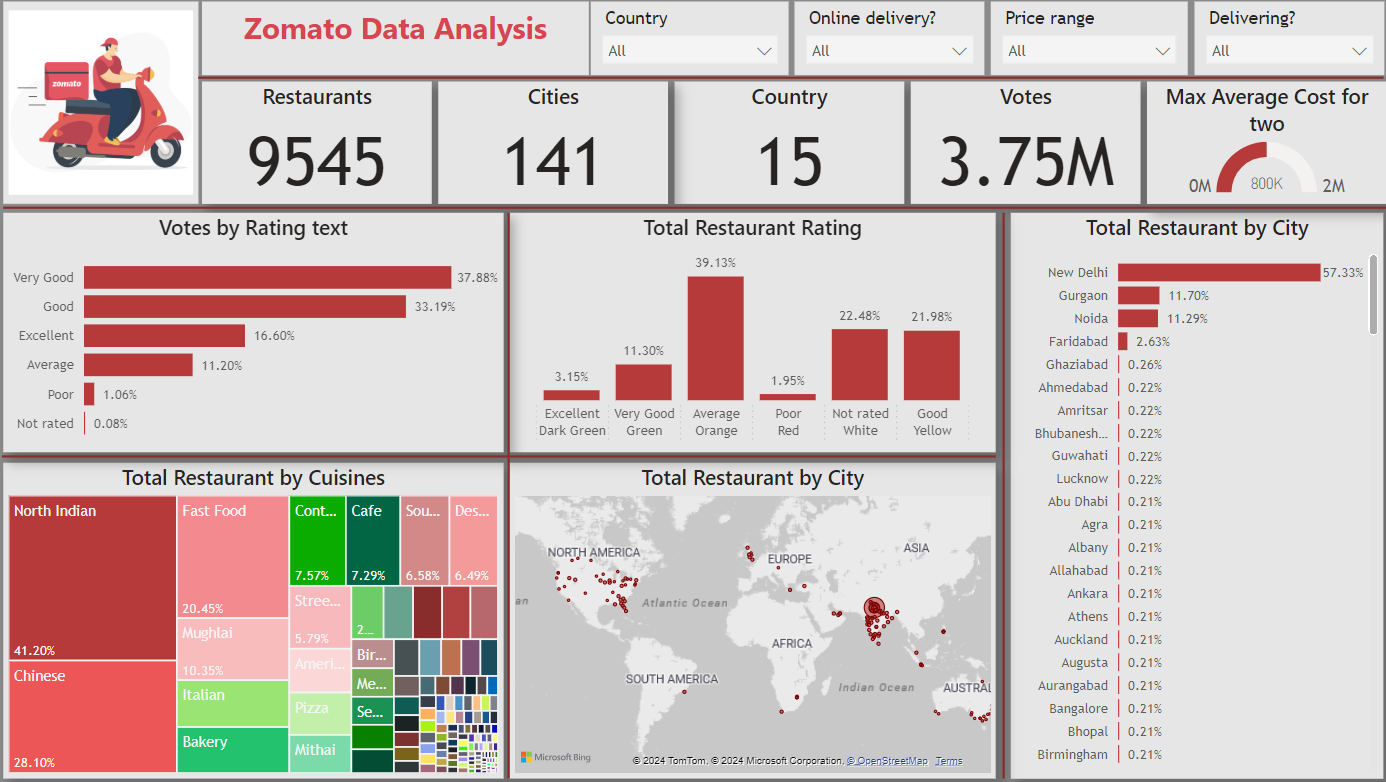

What the dashboard file says about the page in this screenshot:
{"tool":"powerbi","page":{"name":"Page 1","canvas":[1280,720],"ordinal":0},"visuals":[{"type":"slicer","fields":{"Values":["zomato.Country Name"]},"box":[553.8,6.2,178.8,66.2],"z":0},{"type":"slicer","fields":{"Values":["zomato.Price range"]},"box":[913.8,6.2,177.5,66.2],"z":1000},{"type":"slicer","fields":{"Values":["zomato.Has Online delivery"]},"box":[737.5,6.2,171.2,66.2],"z":2000},{"type":"slicer","fields":{"Values":["zomato.Is delivering now"]},"box":[1097.5,6.2,171.2,66.2],"z":3000},{"type":"card","title":"Restaurants","fields":{"Values":["zomato.Total Restaurant"]},"box":[202.5,78.8,207.5,110],"z":4000},{"type":"card","title":"Country","fields":{"Values":["zomato.Total Country"]},"box":[628.8,78.8,207.5,110],"z":5000},{"type":"card","title":"Cities","fields":{"Values":["zomato.Total Cities"]},"box":[416.2,78.8,207.5,110],"z":6000},{"type":"card","title":"Votes","fields":{"Values":["Sum(zomato.Votes)"]},"box":[842.5,78.8,207.5,110],"z":7000},{"type":"clusteredBarChart","title":"Total Restaurant by City","fields":{"Category":["zomato.City"],"Y":["zomato.Total Restaurant"]},"box":[932.5,197.5,336.2,510],"z":8000},{"type":"treemap","fields":{"Group":["zomato.Cuisines"],"Values":["zomato.Total Restaurant"]},"box":[23.8,422.5,451.2,285],"z":9000},{"type":"map","fields":{"Size":["zomato.Total Restaurant"],"Category":["zomato.City"]},"box":[480,422.5,438.8,285],"z":10000},{"type":"columnChart","title":"Total Restaurant Rating","fields":{"Category":["zomato.Rating color","zomato.Rating text"],"Y":["zomato.Total Restaurant"]},"box":[480,197.5,438.8,216.2],"z":11000},{"type":"clusteredBarChart","title":"Votes by Rating text","fields":{"Y":["Sum(zomato.Votes)"],"Category":["zomato.Rating text"]},"box":[23.8,197.5,451.2,216.2],"z":12000},{"type":"gauge","fields":{"Y":["Max(zomato.Average Cost for two)"]},"box":[1055,78.8,216.2,110],"z":13000},{"type":"textbox","box":[202.5,6.2,348.8,66.2],"z":13002},{"type":"image","box":[23.8,6.2,176.2,182.5],"z":13003},{"type":"shape","box":[23.8,170,1247.5,45],"z":13004},{"type":"shape","box":[22.5,395,896.2,45],"z":13005},{"type":"shape","box":[458.8,197.5,41.2,510],"z":13006},{"type":"shape","box":[905,197.5,41.2,510],"z":13007},{"type":"shape","box":[200,52.5,1068.8,45],"z":13008}]}

Visuals, with their boxes in screenshot pixels (x1, y1, x2, y2), scaled from the page's 1280x720 canvas onto the 1386x782 screenshot:
slicer - zomato.Country Name: locate(600, 7, 793, 79)
slicer - zomato.Price range: locate(989, 7, 1182, 79)
slicer - zomato.Has Online delivery: locate(799, 7, 984, 79)
slicer - zomato.Is delivering now: locate(1188, 7, 1374, 79)
"Restaurants" card: locate(219, 86, 444, 205)
"Country" card: locate(681, 86, 906, 205)
"Cities" card: locate(451, 86, 675, 205)
"Votes" card: locate(912, 86, 1137, 205)
"Total Restaurant by City" clusteredBarChart: locate(1010, 215, 1374, 768)
treemap - zomato.Cuisines x zomato.Total Restaurant: locate(26, 459, 514, 768)
map - zomato.Total Restaurant x zomato.City: locate(520, 459, 995, 768)
"Total Restaurant Rating" columnChart: locate(520, 215, 995, 449)
"Votes by Rating text" clusteredBarChart: locate(26, 215, 514, 449)
gauge - Max(zomato.Average Cost for two): locate(1142, 86, 1376, 205)
textbox: locate(219, 7, 597, 79)
image: locate(26, 7, 217, 205)
shape: locate(26, 185, 1377, 234)
shape: locate(24, 429, 995, 478)
shape: locate(497, 215, 541, 768)
shape: locate(980, 215, 1025, 768)
shape: locate(217, 57, 1374, 106)
